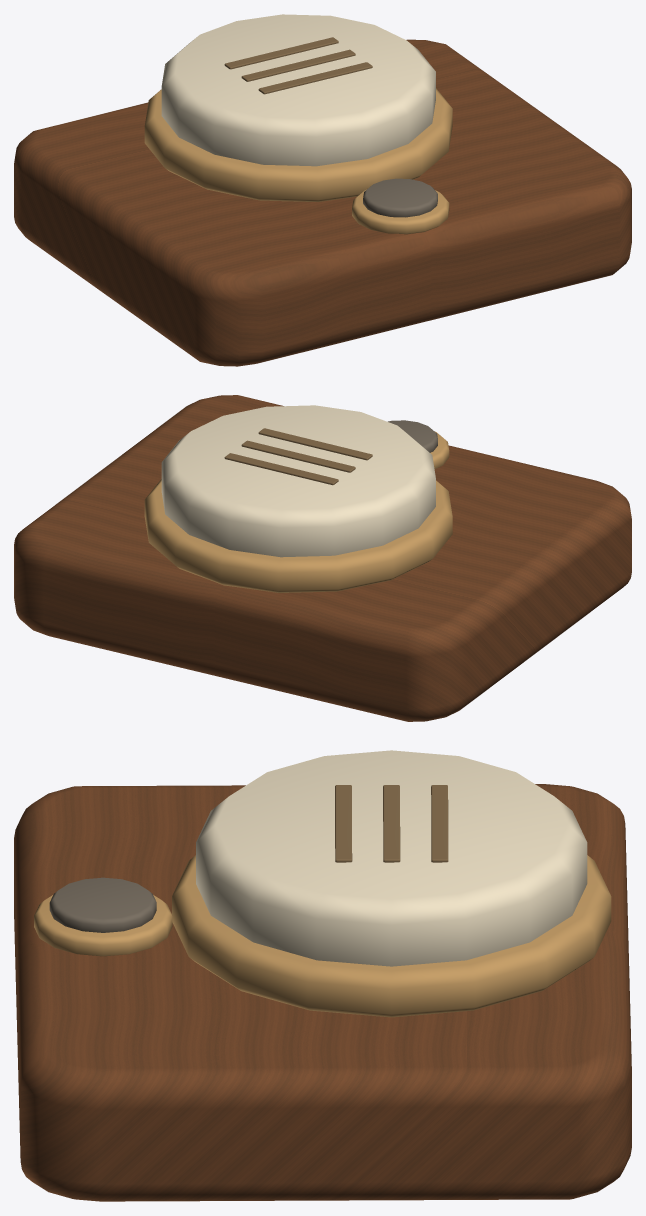
The model's file is wind_control_note3.glb.
3 renders of one model, top to bottom at view 1: azimuth 30°, elevation 25°; view 2: azimuth 150°, elevation 25°; view 3: azimuth 270°, elevation 25°, orthographic. The views are drawn at different scales.
Visible parts, largest first — view 1: Oak, Ivory_Cap, Brass, Engraving_Cap, Lens; view 2: Oak, Ivory_Cap, Brass, Engraving_Cap, Lens; view 3: Oak, Ivory_Cap, Brass, Lens, Engraving_Cap.
Boxes of the visible parts, x1=… form: Oak: x1=14, y1=39, x2=631, y2=366; Ivory_Cap: x1=161, y1=14, x2=435, y2=166; Brass: x1=144, y1=88, x2=452, y2=234; Engraving_Cap: x1=224, y1=37, x2=372, y2=94; Lens: x1=363, y1=178, x2=437, y2=217; Oak: x1=14, y1=395, x2=631, y2=721; Ivory_Cap: x1=161, y1=405, x2=435, y2=557; Brass: x1=144, y1=431, x2=452, y2=592; Engraving_Cap: x1=224, y1=428, x2=372, y2=485; Lens: x1=388, y1=420, x2=437, y2=452; Oak: x1=14, y1=784, x2=631, y2=1201; Ivory_Cap: x1=196, y1=750, x2=587, y2=966; Brass: x1=34, y1=855, x2=611, y2=1017; Lens: x1=49, y1=877, x2=156, y2=932; Engraving_Cap: x1=335, y1=785, x2=448, y2=862.
Bounding box in the file's own units: 0.106 × 0.0379 × 0.09.
5 materials, 1 textured.
